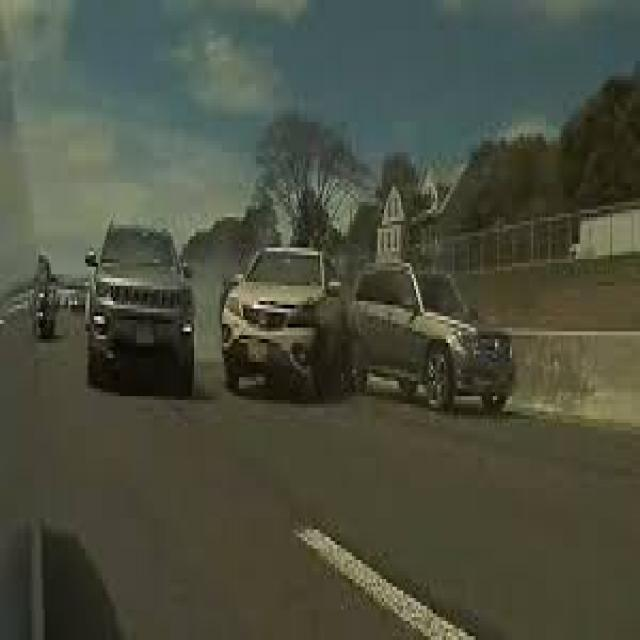accident: (207, 213, 529, 446)
